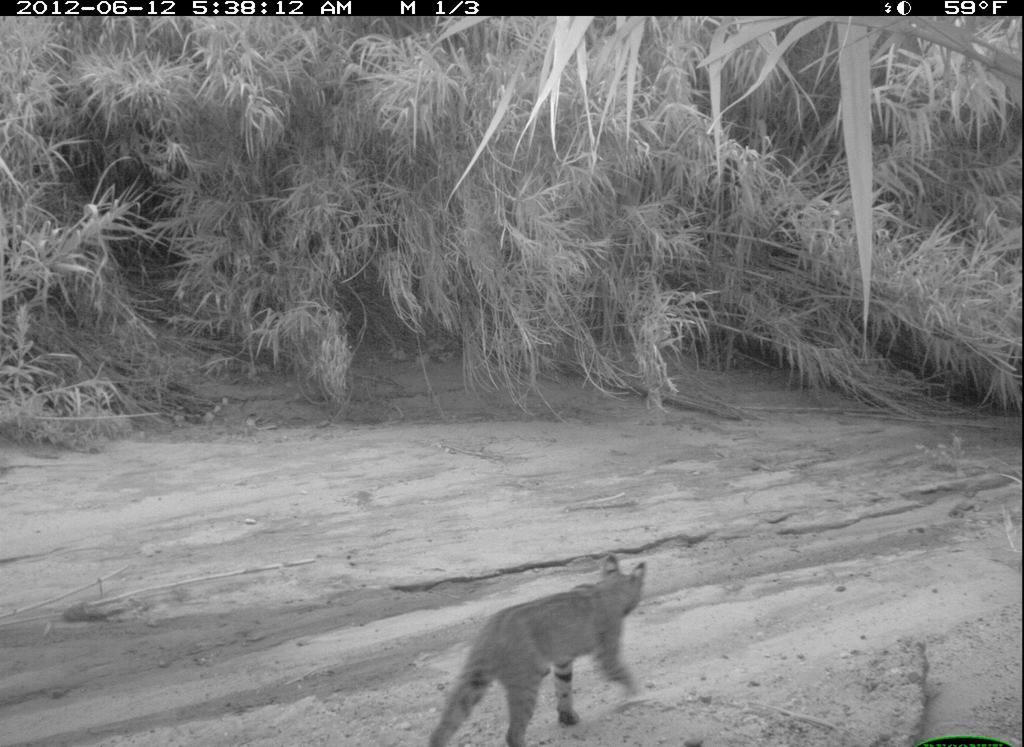bobcat: (423, 548, 664, 747)
